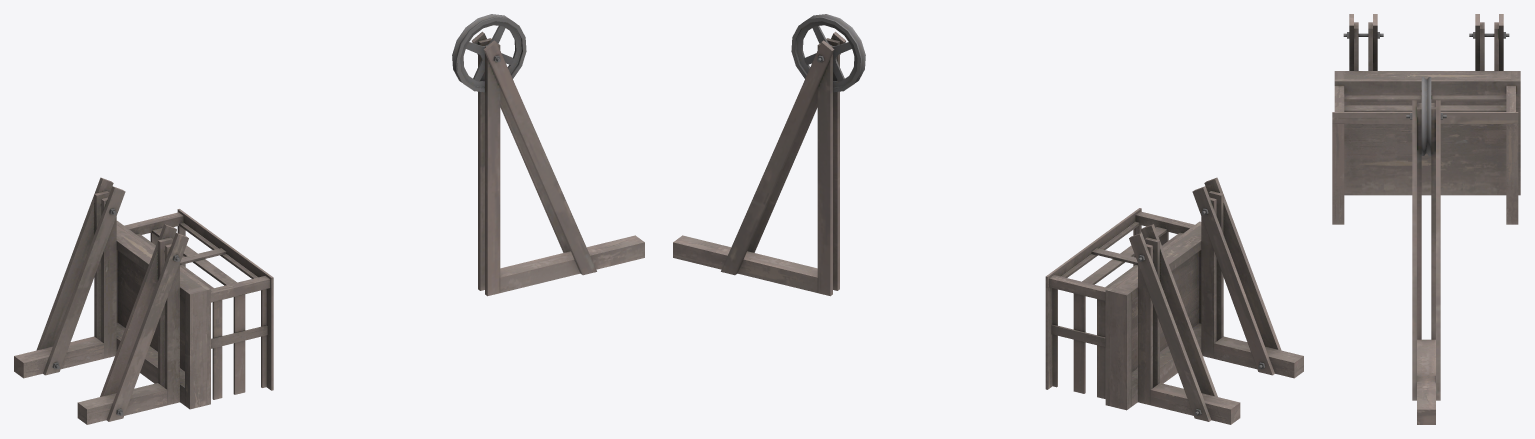
Rendered from props_mining_truss008.glb.
3 views of the same model, side by side, from view 1: azimuth 30°, elevation 25°; view 2: azimuth 150°, elevation 25°; view 3: azimuth 270°, elevation 25° (orthographic).
Parts seen in each view (by area): view 1: models/props_mining/truss008; view 2: models/props_mining/truss008; view 3: models/props_mining/truss008.
Part boxes in pixels (x1,y1,x2,y2): models/props_mining/truss008: (14, 14, 644, 424); models/props_mining/truss008: (673, 14, 1303, 424); models/props_mining/truss008: (1332, 14, 1520, 424).
Size of the model in its own units: 558 by 248 by 156.
Materials: 1 (1 with a texture image).
